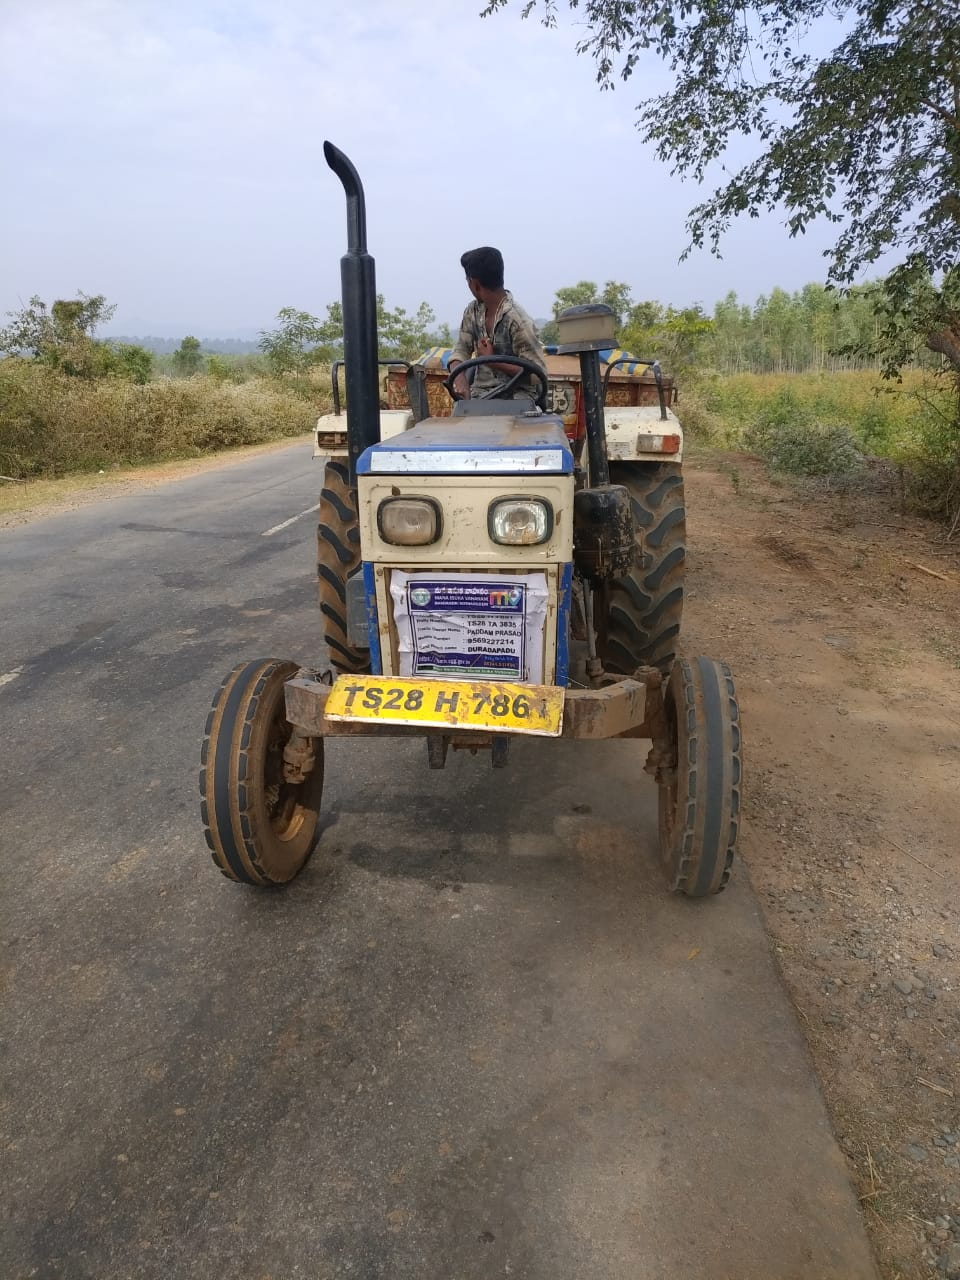license_plate: (322, 665, 561, 745)
